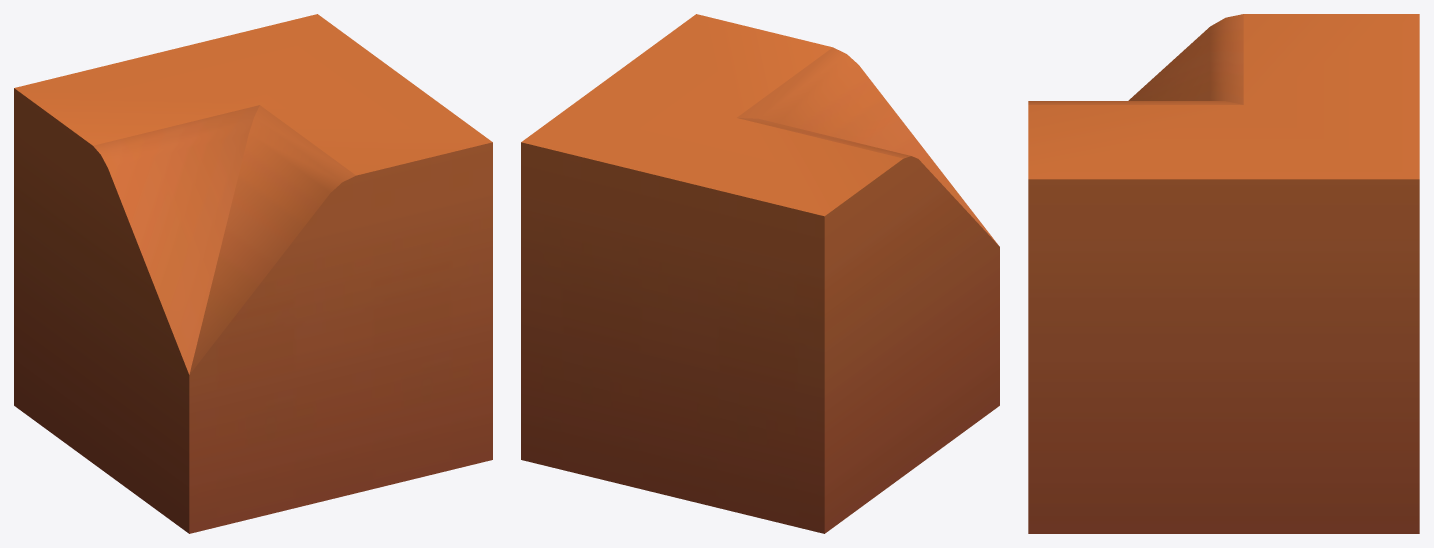
The model's file is kaykit-space-base-bits-terrain-slope-inner-corner.glb.
The picture shows the model from 3 angles, left to right: view 1: azimuth 30°, elevation 25°; view 2: azimuth 150°, elevation 25°; view 3: azimuth 270°, elevation 25°; orthographic projection. The views are drawn at different scales.
Parts seen in each view (by area): view 1: terrain_slope_inner_corner; view 2: terrain_slope_inner_corner; view 3: terrain_slope_inner_corner.
Part boxes in pixels (left/top/right/bottom): terrain_slope_inner_corner: left=14, top=14, right=492, bottom=533; terrain_slope_inner_corner: left=521, top=14, right=999, bottom=533; terrain_slope_inner_corner: left=1028, top=14, right=1419, bottom=533.
Bounding box in the file's own units: 2 × 2 × 2.
Materials: 1 (1 with a texture image).
